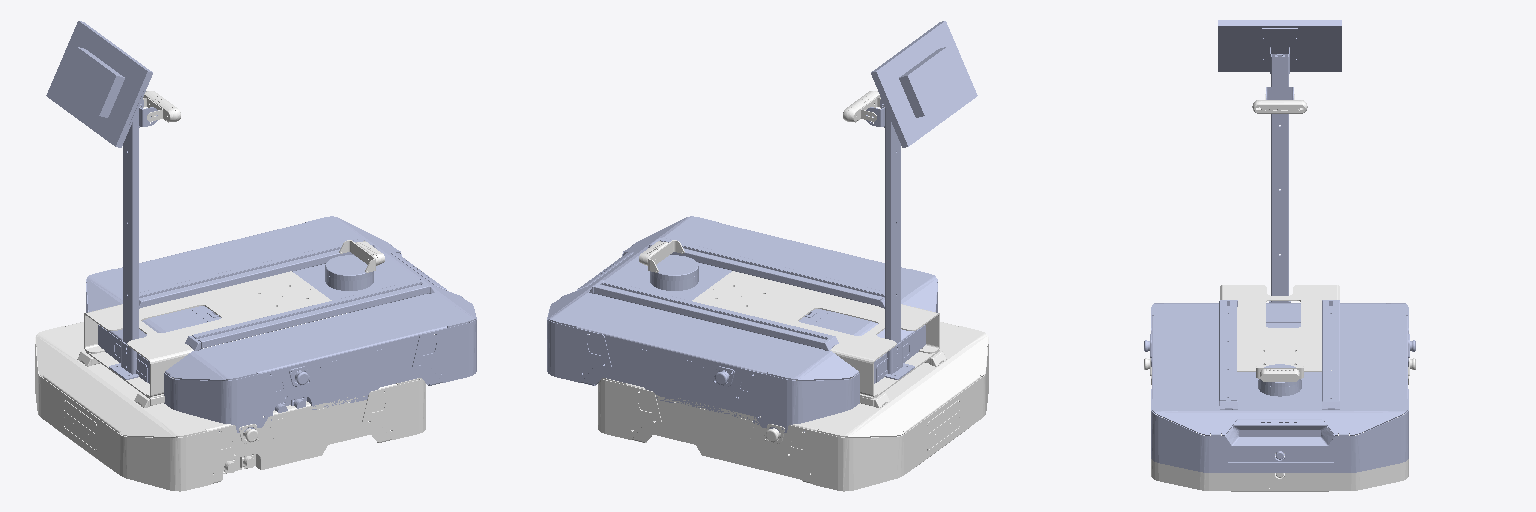
URDF robot description (mobile_manipulator2_description):
<?xml version='1.0' encoding='UTF-8'?>
<robot name="mobile_manipulator2_description">
  <link name="world" />
  <joint name="world_to_base" type="fixed">
    <origin xyz="0 0 0" rpy="0 0 0" />
    <parent link="world" />
    <child link="base_link" />
  </joint>
  <link name="base_link">
    <inertial>
      <origin rpy="0 0 0" xyz="-0.0312209606413168 -1.37168643094102E-05 -0.0624311561488474" />
      <mass value="3.66600808570302" />
      <inertia ixx="0.070830972506108" ixy="0.000423733904503755" ixz="-0.0004402307499561" iyy="0.0538747474413543" iyz="0.000250637811260168" izz="0.118808674602765" />
    </inertial>
    <visual>
      <origin rpy="0 0 0" xyz="0 0 0" />
      <geometry>
        <mesh filename="../meshes/base_link.STL" />
      </geometry>
      <material name="">
        <color rgba="1 1 1 1" />
      </material>
    </visual>
    <collision>
      <origin rpy="0 0 0" xyz="0 0 0" />
      <geometry>
        <mesh filename="../meshes/base_link_collision.STL" />
      </geometry>
    </collision>
  </link>
  <link name="box_Link">
    <inertial>
      <origin rpy="0 0 0" xyz="-0.0336792278049677 -0.00458080590131121 0.046046222818299" />
      <mass value="1.96086062558564" />
      <inertia ixx="0.00861532872920901" ixy="-0.000126429659448238" ixz="-4.57098901476866E-05" iyy="0.0243467421162108" iyz="-2.86453497285015E-05" izz="0.0322309365376531" />
    </inertial>
    <visual>
      <origin rpy="0 0 0" xyz="0 0 0" />
      <geometry>
        <mesh filename="../meshes/box_Link.STL" />
      </geometry>
      <material name="">
        <color rgba="1 1 1 1" />
      </material>
    </visual>
    <collision>
      <origin rpy="0 0 0" xyz="0 0 0" />
      <geometry>
        <mesh filename="../meshes/box_Link_collision.STL" />
      </geometry>
    </collision>
  </link>
  <joint name="box_joint" type="fixed">
    <origin rpy="0 0 0" xyz="0 0 0" />
    <parent link="base_link" />
    <child link="box_Link" />
    <axis xyz="0 0 0" />
  </joint>
  <link name="lifting_Link">
    <inertial>
      <origin rpy="0 0 0" xyz="-0.0645758262218638 3.1034672673273E-05 0.590832686497018" />
      <mass value="1.28345031134681" />
      <inertia ixx="0.0137761443631695" ixy="-2.91078208048479E-07" ixz="-0.000720021739199037" iyy="0.00882953168919407" iyz="7.87382666162099E-08" izz="0.00591609424737705" />
    </inertial>
    <visual>
      <origin rpy="0 0 0" xyz="0 0 0" />
      <geometry>
        <mesh filename="../meshes/lifting_Link.STL" />
      </geometry>
      <material name="">
        <color rgba="0.792156862745098 0.819607843137255 0.933333333333333 1" />
      </material>
    </visual>
    <collision>
      <origin rpy="0 0 0" xyz="0 0 0.365" />
      <geometry>
        <box size="0.08 0.08 0.78" />
      </geometry>
    </collision>
    <collision name="display_collision">
      <origin rpy="0 0.6109 0" xyz="-0.08 0 0.65" />
      <geometry>
        <box size="0.05 0.40 0.30" />
      </geometry>
    </collision>
  </link>
  <joint name="lifting_joint" type="fixed">
    <origin rpy="0 0 0" xyz="-0.24269 0 0.022" />
    <parent link="box_Link" />
    <child link="lifting_Link" />
    <axis xyz="0 0 0" />
  </joint>
  <link name="top_camera_Link">
    <inertial>
      <origin rpy="0 0 0" xyz="0.0081944 0.00022525 0.00024018" />
      <mass value="0.028999" />
      <inertia ixx="3.8589E-05" ixy="-1.3619E-08" ixz="-2.6151E-08" iyy="3.7635E-06" iyz="2.7688E-08" izz="3.7044E-05" />
    </inertial>
    <visual>
      <origin rpy="0 0 0" xyz="0 0 0" />
      <geometry>
        <mesh filename="../meshes/top_camera_Link.STL" />
      </geometry>
      <material name="">
        <color rgba="1 1 1 1" />
      </material>
    </visual>
    <collision>
      <origin rpy="0 0 0" xyz="0 0 0" />
      <geometry>
        <box size="0.08 0.06 0.04" />
      </geometry>
    </collision>
  </link>
  <joint name="top_camera_joint" type="fixed">
    <origin rpy="0 0 0" xyz="0.056999999999981 0 0.569500339851353" />
    <parent link="lifting_Link" />
    <child link="top_camera_Link" />
    <axis xyz="0 0 0" />
  </joint>
  <link name="lidar_Link">
    <inertial>
      <origin rpy="0 0 0" xyz="-0.010562 -0.00043095 0.033917" />
      <mass value="0.11388" />
      <inertia ixx="0.0001253" ixy="1.1158E-07" ixz="3.3459E-07" iyy="0.00012408" iyz="-2.6657E-08" izz="0.00019563" />
    </inertial>
    <visual>
      <origin rpy="0 0 0" xyz="0 0 0" />
      <geometry>
        <mesh filename="../meshes/lidar_Link.STL" />
      </geometry>
      <material name="">
        <color rgba="0.78824 0.81961 0.92941 1" />
      </material>
    </visual>
    <collision>
      <origin rpy="0 0 0" xyz="0 0 0" />
      <geometry>
        <box size="0.18 0.14 0.09" />
      </geometry>
    </collision>
  </link>
  <joint name="lidar_joint" type="fixed">
    <origin rpy="0 0 0" xyz="0.27254 0.00035292 0.0315" />
    <parent link="base_link" />
    <child link="lidar_Link" />
    <axis xyz="0 0 0" />
  </joint>
  <link name="under_camera_Link">
    <inertial>
      <origin rpy="0 0 0" xyz="0.0088456 0.00020043 0.0003575" />
      <mass value="0.055353" />
      <inertia ixx="4.2284E-05" ixy="2.4484E-07" ixz="-6.627E-08" iyy="4.8492E-06" iyz="-2.9109E-09" izz="4.2122E-05" />
    </inertial>
    <visual>
      <origin rpy="0 0 0" xyz="0 0 0" />
      <geometry>
        <mesh filename="../meshes/under_camera_Link.STL" />
      </geometry>
      <material name="">
        <color rgba="1 1 1 1" />
      </material>
    </visual>
    <collision>
      <origin rpy="0 0 0" xyz="0 0 0" />
      <geometry>
        <box size="0.10 0.08 0.05" />
      </geometry>
    </collision>
  </link>
  <joint name="under_camera_joint" type="fixed">
    <origin rpy="0 0 0" xyz="0.30 0 0.15" />
    <parent link="base_link" />
    <child link="under_camera_Link" />
    <axis xyz="0 0 0" />
  </joint>
  <link name="arm_base">
    <inertial>
      <origin rpy="0 0 0" xyz="-0.00979274765955341 1.82905827587138E-06 0.0410100126360189" />
      <mass value="0.162548567403693" />
      <inertia ixx="0.000226596924525071" ixy="-7.33972270153965E-08" ixz="2.13249977802622E-06" iyy="0.000269444772561524" iyz="8.15169009611054E-09" izz="0.000222318258878636" />
    </inertial>
    <visual>
      <origin rpy="0 0 0" xyz="0 0 0" />
      <geometry>
        <mesh filename="../meshes/base_link.STL" />
      </geometry>
      <material name="">
        <color rgba="0.792156862745098 0.819607843137255 0.933333333333333 1" />
      </material>
    </visual>
    <collision>
      <origin rpy="0 0 0" xyz="0 0 0" />
      <geometry>
        <mesh filename="../meshes/arm_base_link_collision.STL" />
      </geometry>
    </collision>
  </link>
  <link name="link1">
    <inertial>
      <origin rpy="0 0 0" xyz="0.00131676031927024 0.000310288842008612 -0.00922874512303437" />
      <mass value="0.0978679932242825" />
      <inertia ixx="7.76684558296782E-05" ixy="1.09084650459924E-07" ixz="-1.9748053243241E-06" iyy="9.24967780161547E-05" iyz="9.91284646834582E-07" izz="8.24589062407807E-05" />
    </inertial>
    <visual>
      <origin rpy="0 0 0" xyz="0 0 0" />
      <geometry>
        <mesh filename="../meshes/arm_link1.STL" />
      </geometry>
      <material name="">
        <color rgba="0.792156862745098 0.819607843137255 0.933333333333333 1" />
      </material>
    </visual>
    <collision>
      <origin rpy="0 0 1.5708" xyz="0 0 0" />
      <geometry>
        <mesh filename="../meshes/arm_link1_collision.STL" />
      </geometry>
    </collision>
  </link>
  <joint name="joint1" type="revolute">
    <origin rpy="0 0 -1.5708" xyz="0 0 0.123" />
    <parent link="arm_base" />
    <child link="link1" />
    <axis xyz="0 0 1" />
    <limit effort="100" lower="-2.618" upper="2.618" velocity="3" />
  </joint>
  <link name="link2">
    <inertial>
      <origin rpy="0 0 0" xyz="0.148793602378802 -0.00242026983944119 0.00175154638467948" />
      <mass value="0.290888938633388" />
      <inertia ixx="0.000148959640166183" ixy="-7.37750384371657E-05" ixz="-9.68688405196236E-07" iyy="0.00172800946632652" iyz="-1.09692225564224E-06" izz="0.0017754628344594" />
    </inertial>
    <visual>
      <origin rpy="0 0 0" xyz="0 0 0" />
      <geometry>
        <mesh filename="../meshes/arm_link2.STL" />
      </geometry>
      <material name="">
        <color rgba="0.792156862745098 0.819607843137255 0.933333333333333 1" />
      </material>
    </visual>
    <collision>
      <origin rpy="0 0 0.1" xyz="0 0 0" />
      <geometry>
        <mesh filename="../meshes/arm_link2_collision.STL" />
      </geometry>
    </collision>
  </link>
  <joint name="joint2" type="revolute">
    <origin rpy="1.5708 -0.034907 -1.5708" xyz="0 0 0" />
    <parent link="link1" />
    <child link="link2" />
    <axis xyz="0 0 1" />
    <limit effort="100" lower="0" upper="3.14" velocity="3" />
  </joint>
  <link name="link3">
    <inertial>
      <origin rpy="0 0 0" xyz="-0.0996835215213704 0.0349477226691318 0.000508025815507312" />
      <mass value="0.290847697793211" />
      <inertia ixx="0.000107879011637167" ixy="2.92669521203626E-05" ixz="6.825922326238E-07" iyy="0.000214751671792086" iyz="-7.78469047878196E-07" izz="0.000241923439340319" />
    </inertial>
    <visual>
      <origin rpy="0 0 0" xyz="0 0 0" />
      <geometry>
        <mesh filename="../meshes/arm_link3.STL" />
      </geometry>
      <material name="">
        <color rgba="0.792156862745098 0.819607843137255 0.933333333333333 1" />
      </material>
    </visual>
    <collision>
      <origin rpy="0 0 -1.75" xyz="0 0 0" />
      <geometry>
        <mesh filename="../meshes/arm_link3_collision.STL" />
      </geometry>
    </collision>
  </link>
  <joint name="joint3" type="revolute">
    <origin rpy="0 0 0.06604341" xyz="0.28358 0.028726 0" />
    <parent link="link2" />
    <child link="link3" />
    <axis xyz="0 0 1" />
    <limit effort="100" lower="-2.697" upper="0" velocity="3" />
  </joint>
  <link name="link4">
    <inertial>
      <origin rpy="0 0 0" xyz="0.000276464622387979 -0.00102803669324875 -0.00472830700561663" />
      <mass value="0.127087348341362" />
      <inertia ixx="3.82011730423416E-05" ixy="-4.92358350897513E-08" ixz="4.89589432973119E-08" iyy="4.87048555222578E-05" iyz="6.70802942500512E-08" izz="4.10592077565559E-05" />
    </inertial>
    <visual>
      <origin rpy="0 0 0" xyz="0 0 0" />
      <geometry>
        <mesh filename="../meshes/arm_link4.STL" />
      </geometry>
      <material name="">
        <color rgba="0.792156862745098 0.819607843137255 0.933333333333333 1" />
      </material>
    </visual>
    <collision>
      <origin rpy="0 0 0" xyz="0 0 0" />
      <geometry>
        <mesh filename="../meshes/arm_link4_collision.STL" />
      </geometry>
    </collision>
  </link>
  <joint name="joint4" type="revolute">
    <origin rpy="-1.5708 0 1.3826" xyz="-0.24221 0.068514 0" />
    <parent link="link3" />
    <child link="link4" />
    <axis xyz="0 0 1" />
    <limit effort="100" lower="-1.832" upper="1.832" velocity="3" />
  </joint>
  <link name="link5">
    <inertial>
      <origin rpy="0 0 0" xyz="8.82262433516967E-05 0.0566829014808256 -0.00196119720482461" />
      <mass value="0.144711242639457" />
      <inertia ixx="4.39644313662493E-05" ixy="-3.59259686444846E-08" ixz="-1.89747741386183E-08" iyy="5.63173920951307E-05" iyz="-2.1540716689785E-07" izz="4.88713664675268E-05" />
    </inertial>
    <visual>
      <origin rpy="0 0 0" xyz="0 0 0" />
      <geometry>
        <mesh filename="../meshes/arm_link5.STL" />
      </geometry>
      <material name="">
        <color rgba="0.792156862745098 0.819607843137255 0.933333333333333 1" />
      </material>
    </visual>
    <collision>
      <origin rpy="0 0 -3.14" xyz="0 0 0" />
      <geometry>
        <mesh filename="../meshes/arm_link5_collision.STL" />
      </geometry>
    </collision>
  </link>
  <joint name="joint5" type="revolute">
    <origin rpy="1.5708 0 0" xyz="0 0 0" />
    <parent link="link4" />
    <child link="link5" />
    <axis xyz="0 0 1" />
    <limit effort="100" lower="-1.22" upper="1.22" velocity="3" />
  </joint>
  <link name="link6">
    <inertial>
      <origin rpy="0 0 0" xyz="0.00103120214523473 0.0121761387587524 0.0315480874960164" />
      <mass value="0.195187143240719" />
      <inertia ixx="6.43790256535539E-05" ixy="-1.2366166157046E-06" ixz="1.97664606328472E-07" iyy="0.000126146396374301" iyz="2.41157078516408E-06" izz="0.000154087076816444" />
    </inertial>
    <visual>
      <origin rpy="-1.57 0 0" xyz="-0.002 -0.008 0" />
      <geometry>
	      <mesh filename="../meshes/arm_link6.STL" />
      </geometry>
      <material name="">
        <color rgba="0.792156862745098 0.819607843137255 0.933333333333333 1" />
      </material>
    </visual>
    <collision>
      <origin rpy="-1.57 0 0" xyz="-0.002 -0.008 0" />
      <geometry>
        <mesh filename="../meshes/arm_link6_collision.STL" />
      </geometry>
    </collision>
    <collision name="camera_main_collision">
      <origin rpy="0 0 0" xyz="0 0 0.045" />
      <geometry>
        <box size="0.06 0.05 0.09" />
      </geometry>
    </collision>
    <collision name="camera_lens_collision">
      <origin rpy="0 0 0" xyz="0 0 0.085" />
      <geometry>
        <cylinder radius="0.025" length="0.03" />
      </geometry>
    </collision>
  </link>
  <joint name="joint6" type="revolute">
    <origin rpy="-1.5708 -1.5708 0" xyz="0 0.091 0.0014165" />
    <parent link="link5" />
    <child link="link6" />
    <axis xyz="0 0 1" />
    <limit effort="100" lower="-3.14" upper="3.14" velocity="3" />
  </joint>
  <link name="gripper_base">
    <inertial>
      <origin xyz="-0.000183807162235591 8.05033155577911E-05 0.0321436689908876" rpy="0 0 0" />
      <mass value="0.45" />
      <inertia ixx="0.00092934" ixy="0.00000034" ixz="-0.00000738" iyy="0.00071447" iyz="0.00000005" izz="0.00039442" />
    </inertial>
    <visual>
      <origin xyz="0 0 0" rpy="0 0 0" />
      <geometry>
        <mesh filename="../meshes/arm_gripper_base.STL" />
      </geometry>
      <material name="">
        <color rgba="0.792156862745098 0.819607843137255 0.933333333333333 1" />
      </material>
    </visual>
    <collision>
      <origin xyz="0 0 0" rpy="0 0 0" />
      <geometry>
        <mesh filename="../meshes/arm_gripper_base_collision.STL" />
      </geometry>
    </collision>
  </link>
  <joint name="joint6_to_gripper_base" type="fixed">
    <origin xyz="0 0 0" rpy="0 0 0" />
    <parent link="link6" />
    <child link="gripper_base" />
  </joint>
  <link name="link7">
    <inertial>
      <origin rpy="0 0 0" xyz="-0.000277778383727112 -0.0467673043650824 -0.00921029491873201" />
      <mass value="0.02648229234527" />
      <inertia ixx="9.99787479924589E-06" ixy="-1.57548495096104E-07" ixz="-2.71342775003487E-08" iyy="6.1795212293655E-06" iyz="-1.58939803580081E-06" izz="1.42102717246564E-05" />
    </inertial>
    <visual>
      <origin rpy="0 0 0" xyz="0 0 0" />
      <geometry>
        <mesh filename="../meshes/arm_link7.STL" />
      </geometry>
      <material name="">
        <color rgba="0.792156862745098 0.819607843137255 0.933333333333333 1" />
      </material>
    </visual>
    <collision>
      <origin rpy="0 3.14 0" xyz="-0.001 0 0.0003" />
      <geometry>
        <mesh filename="../meshes/arm_link7_collision.STL" />
      </geometry>
    </collision>
  </link>
  <joint name="joint7" type="prismatic">
    <origin rpy="1.5708 0 1.5708" xyz="0 0 0.13503" />
    <parent link="gripper_base" />
    <child link="link7" />
    <axis xyz="0 0 -1" />
    <limit effort="10" lower="0" upper="0.05" velocity="1" />
  </joint>
  <link name="link8">
    <inertial>
      <origin rpy="0 0 0" xyz="0.000277816920932317 0.0467673824063769 -0.00921030054508036" />
      <mass value="0.0264822021416248" />
      <inertia ixx="9.99779119357223E-06" ixy="-1.57542283433504E-07" ixz="2.71367446701359E-08" iyy="6.17952441557932E-06" iyz="1.58939319453383E-06" izz="1.4210192754512E-05" />
    </inertial>
    <visual>
      <origin rpy="0 0 0" xyz="0 0 0" />
      <geometry>
        <mesh filename="../meshes/arm_link8.STL" />
      </geometry>
      <material name="">
        <color rgba="0.792156862745098 0.819607843137255 0.933333333333333 1" />
      </material>
    </visual>
    <collision>
      <origin rpy="3.14 0 0" xyz="-0.001 0 0.0003" />
      <geometry>
        <mesh filename="../meshes/arm_link8_collision.STL" />
      </geometry>
    </collision>
  </link>
  <joint name="joint8" type="prismatic">
    <origin rpy="-1.5708 0 1.5708" xyz="0 0 0.13503" />
    <parent link="gripper_base" />
    <child link="link8" />
    <axis xyz="0 0 1" />
    <limit effort="10" lower="-0.05" upper="0" velocity="1" />
  </joint>
  <joint name="arm_joint" type="fixed">
    <origin rpy="0.0 0.0 0.0" xyz="0.118 0 0.1" />
    <parent link="box_Link" />
    <child link="arm_base" />
    <axis xyz="0.0 0.0 0.0" />
    <limit effort="0.0" lower="0.0" upper="0.0" velocity="0.0" />
  </joint>
</robot>

--- Facts derived from the render (not from the file) ---
3 views of the same robot in one strip: view 1: azimuth 30°, elevation 25°; view 2: azimuth 150°, elevation 25°; view 3: azimuth 270°, elevation 25° (orthographic).
Model mobile_manipulator2_description with 17 links and 16 joints (6 revolute, 2 prismatic, 8 fixed), rooted at world, posed all joints at 0.
Links seen in each view (by area): view 1: arm_base, base_link, lifting_Link, box_Link, lidar_Link, top_camera_Link, under_camera_Link; view 2: arm_base, base_link, lifting_Link, box_Link, lidar_Link, top_camera_Link, under_camera_Link; view 3: arm_base, lifting_Link, box_Link, base_link, top_camera_Link, lidar_Link, under_camera_Link.
Boxes of the visible links, x1,y1,x2,y2 form: arm_base: (86, 216, 476, 432); base_link: (35, 322, 425, 491); lifting_Link: (46, 21, 157, 379); box_Link: (84, 271, 346, 397); lidar_Link: (325, 255, 373, 290); top_camera_Link: (140, 91, 180, 122); under_camera_Link: (339, 240, 384, 272); arm_base: (547, 216, 937, 432); base_link: (598, 322, 988, 491); lifting_Link: (866, 21, 977, 379); box_Link: (692, 271, 939, 398); lidar_Link: (650, 255, 698, 290); top_camera_Link: (843, 91, 883, 122); under_camera_Link: (639, 240, 684, 272); arm_base: (1144, 300, 1415, 472); lifting_Link: (1218, 20, 1341, 302); box_Link: (1220, 285, 1339, 371); base_link: (1144, 358, 1415, 491); top_camera_Link: (1252, 94, 1307, 113); lidar_Link: (1258, 364, 1301, 396); under_camera_Link: (1256, 366, 1303, 381).
Size in the robot's own frame: 0.8231 by 0.61 by 0.8779 metres.
7 mesh visuals loaded from 15 distinct referenced files (6 binary STL); not drawn: 9 (reference not matched to a file when rendering).